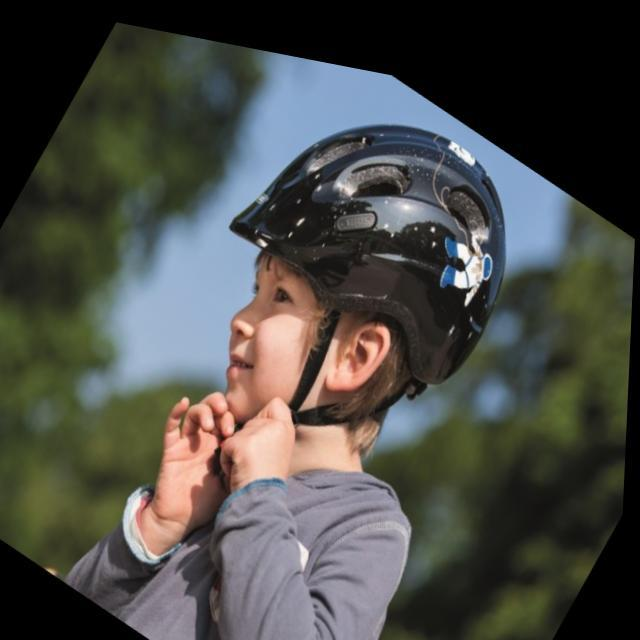Helmet: (213, 118, 512, 450)
